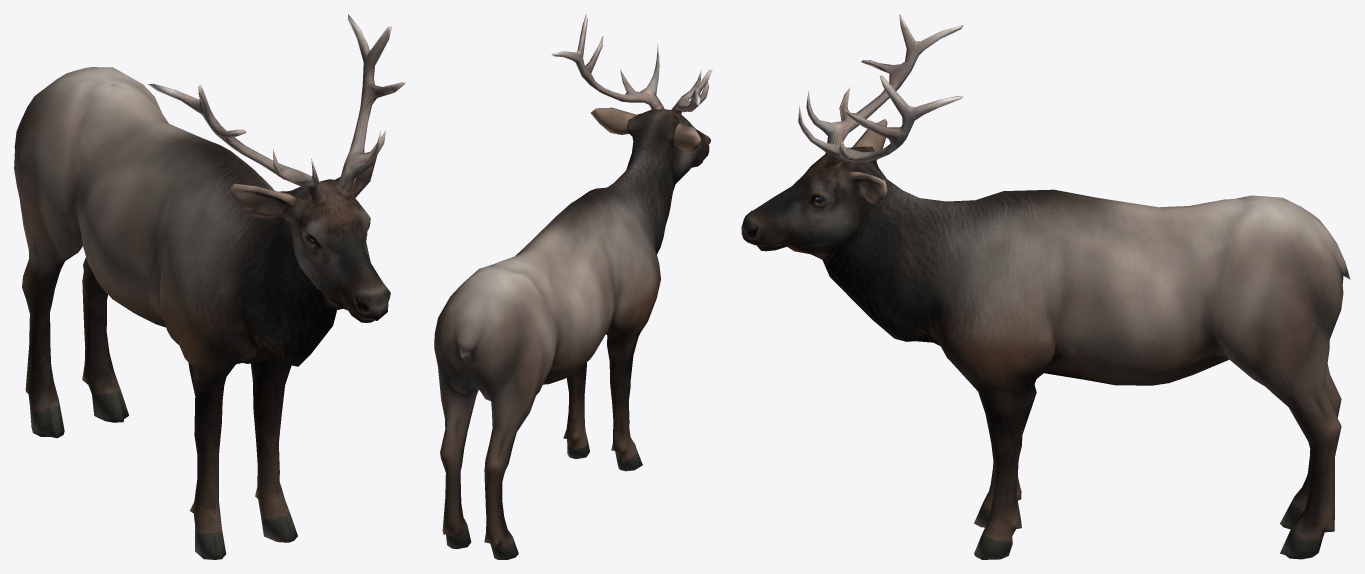
The model's file is elk.glb.
3 views of the same model, side by side, from view 1: azimuth 30°, elevation 25°; view 2: azimuth 150°, elevation 25°; view 3: azimuth 270°, elevation 25° (orthographic). The views are drawn at different scales.
Parts seen in each view (by area): view 1: elk; view 2: elk; view 3: elk.
Part boxes in pixels (x1,y1,x2,y2): elk: (14,14,405,559); elk: (434,14,712,559); elk: (741,14,1350,559).
Bounding box in the file's own units: 1.79 × 4.59 × 5.05.
Materials: 1 (1 with a texture image).
